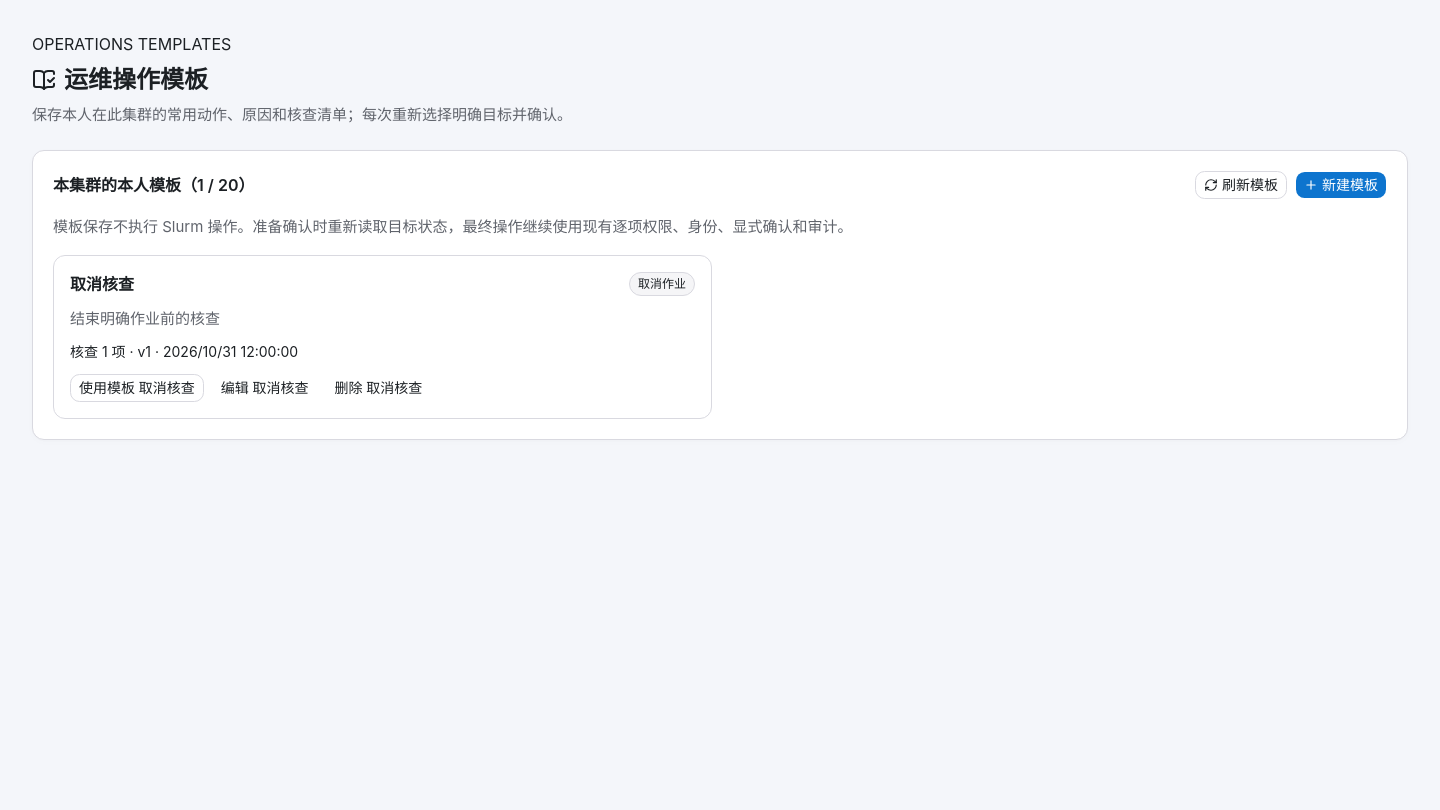
resets human checklist when target selection changes
Expected: the heading "取消核查" is shown, [70,272,134,296]
Click the button "使用模板 取消核查" at (137,388), box [70,374,204,402]
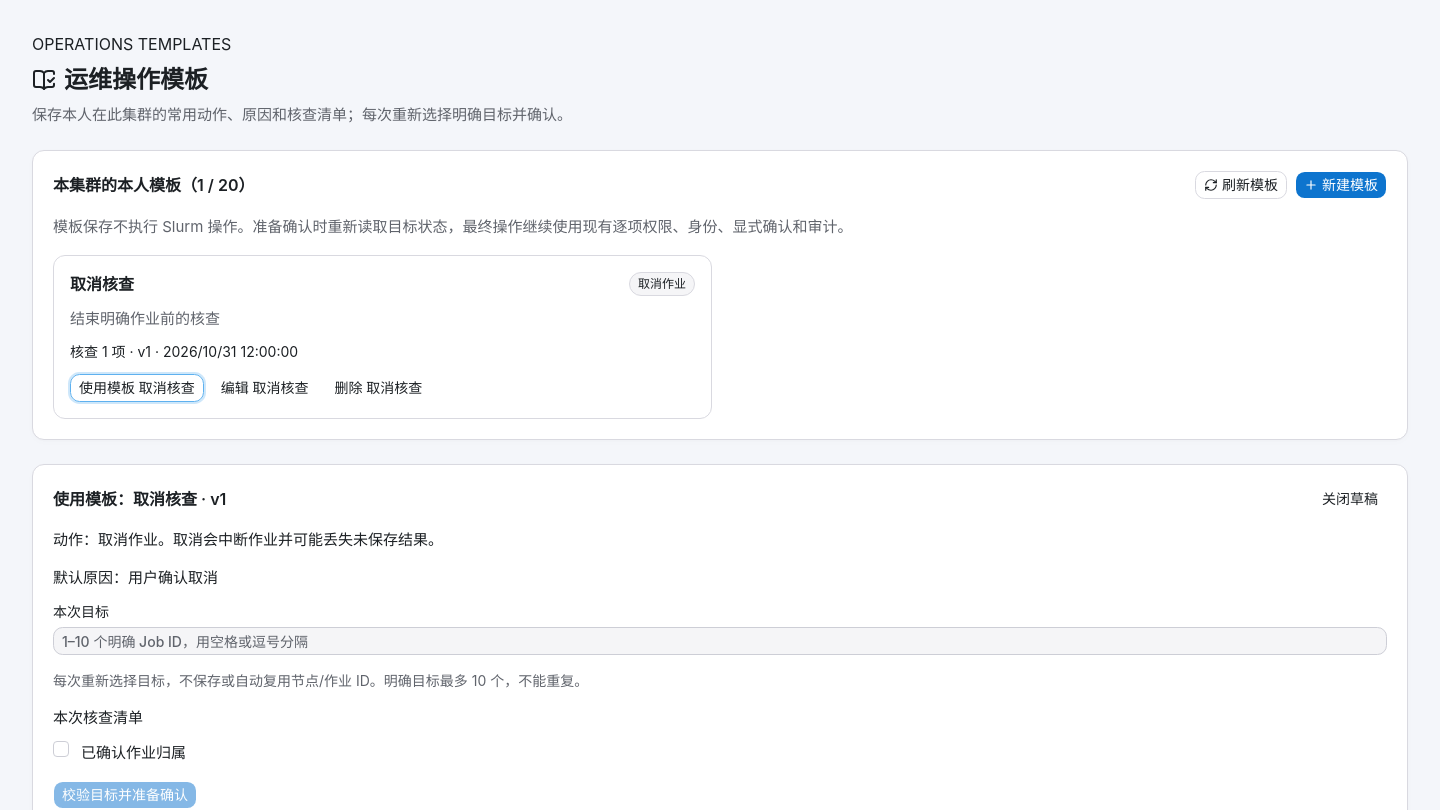
Type "42" into the field named "本次模板目标" at (720,641), box [53,627,1387,655]
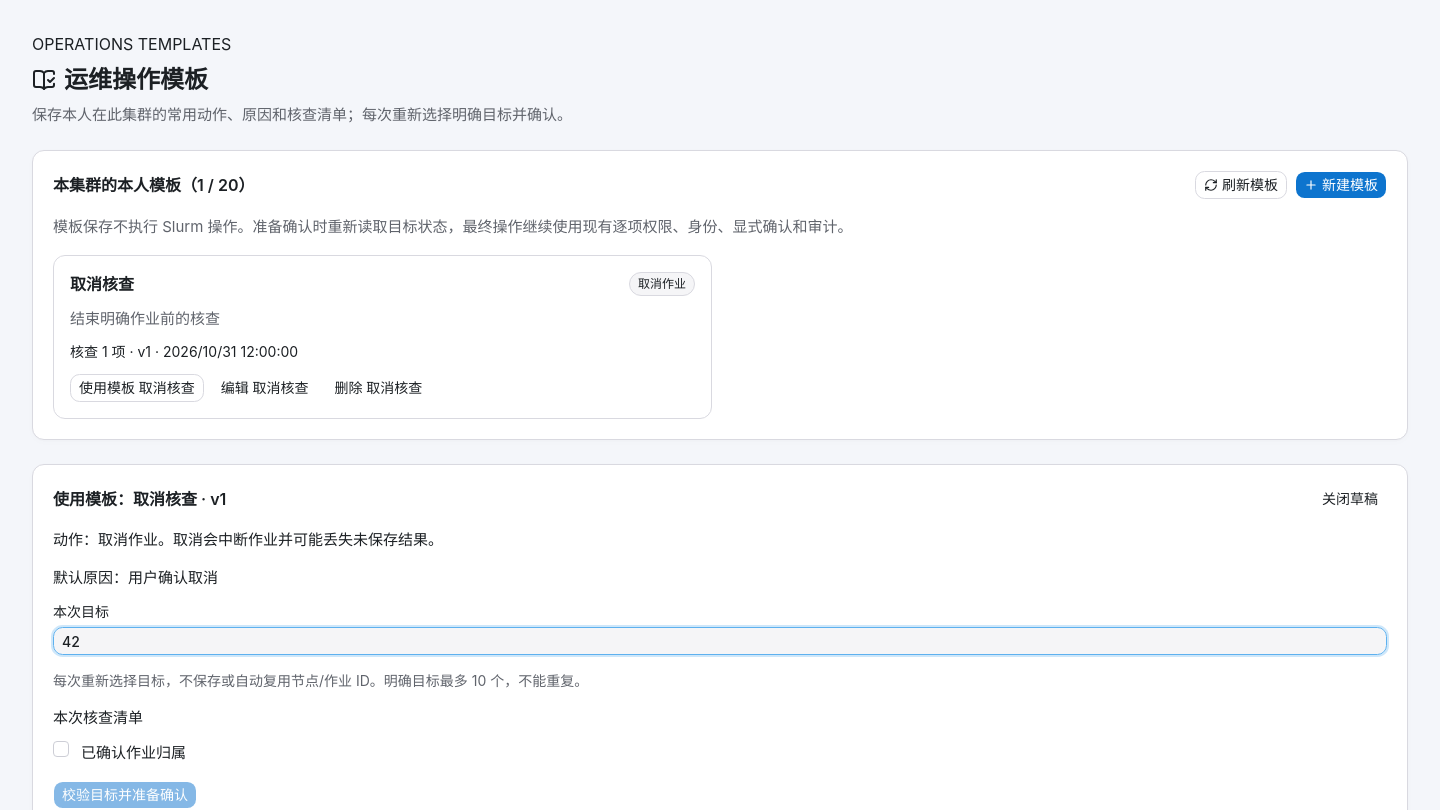
Click the checkbox named "已确认作业归属" at (61,749), box [53,741,69,757]
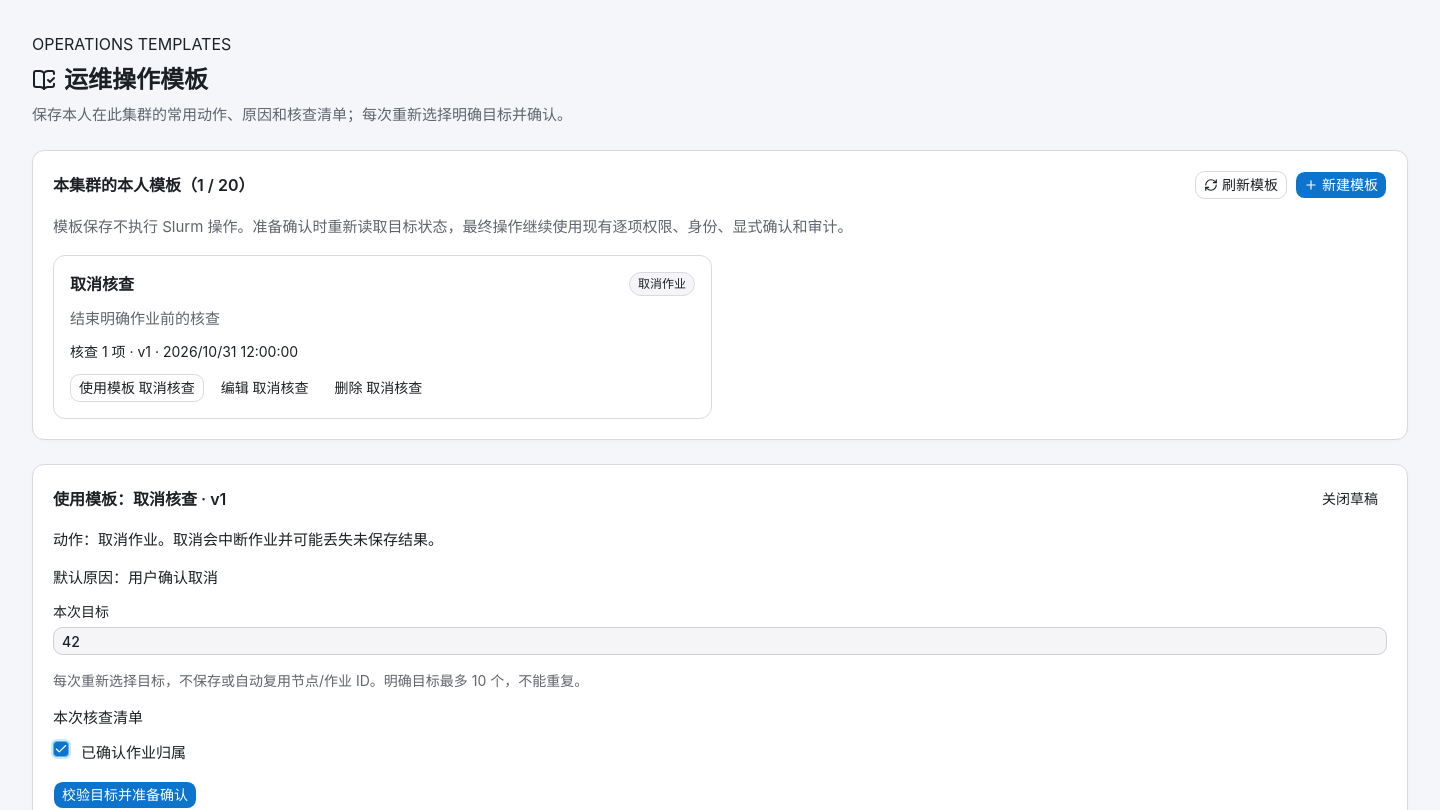
Expected: the button "校验目标并准备确认" is enabled, [53,781,197,809]
Type ",43" into the field named "本次模板目标" at (720,641), box [53,627,1387,655]
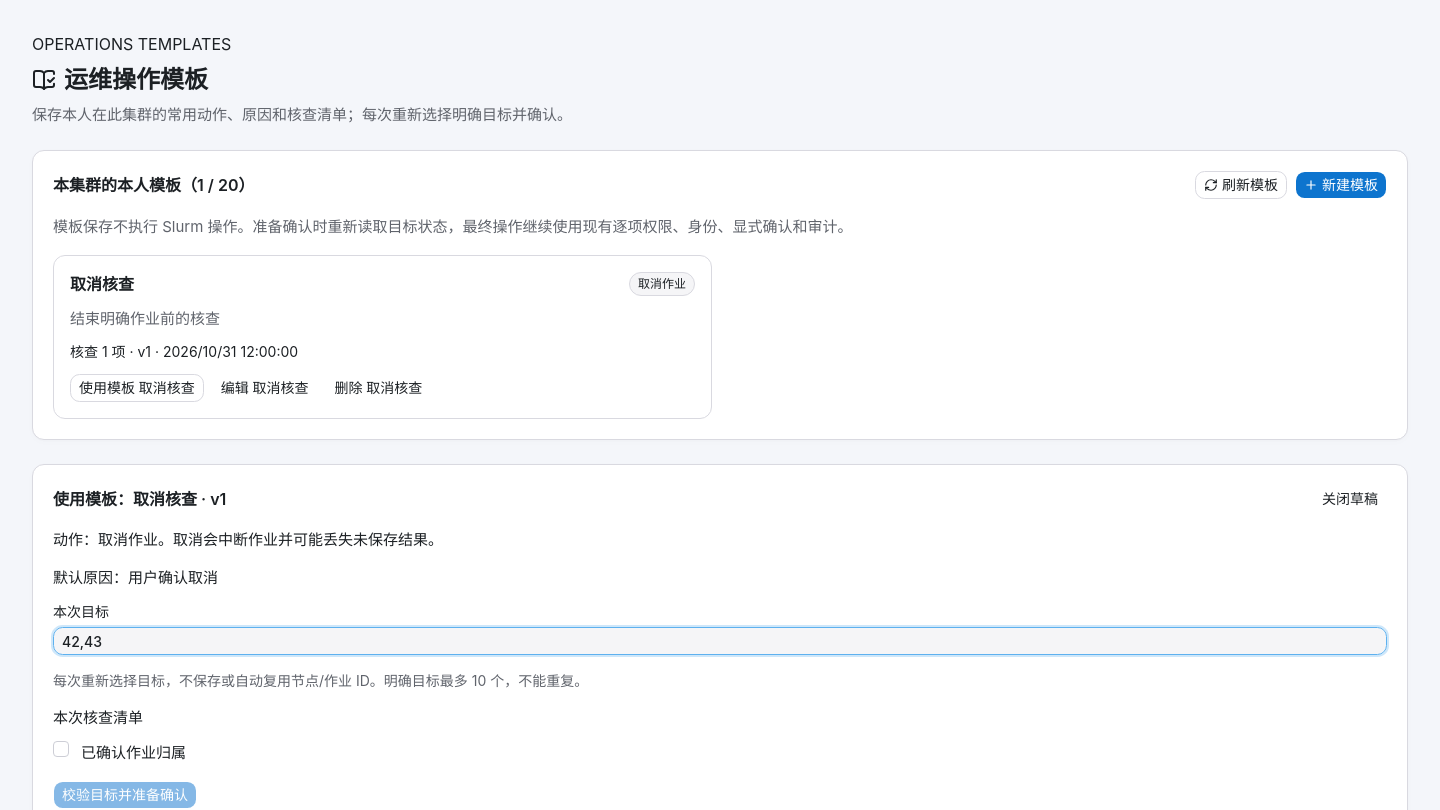
Expected: the checkbox named "已确认作业归属" is not checked, [53,741,69,757]
Expected: the button "校验目标并准备确认" is disabled, [53,781,197,809]
